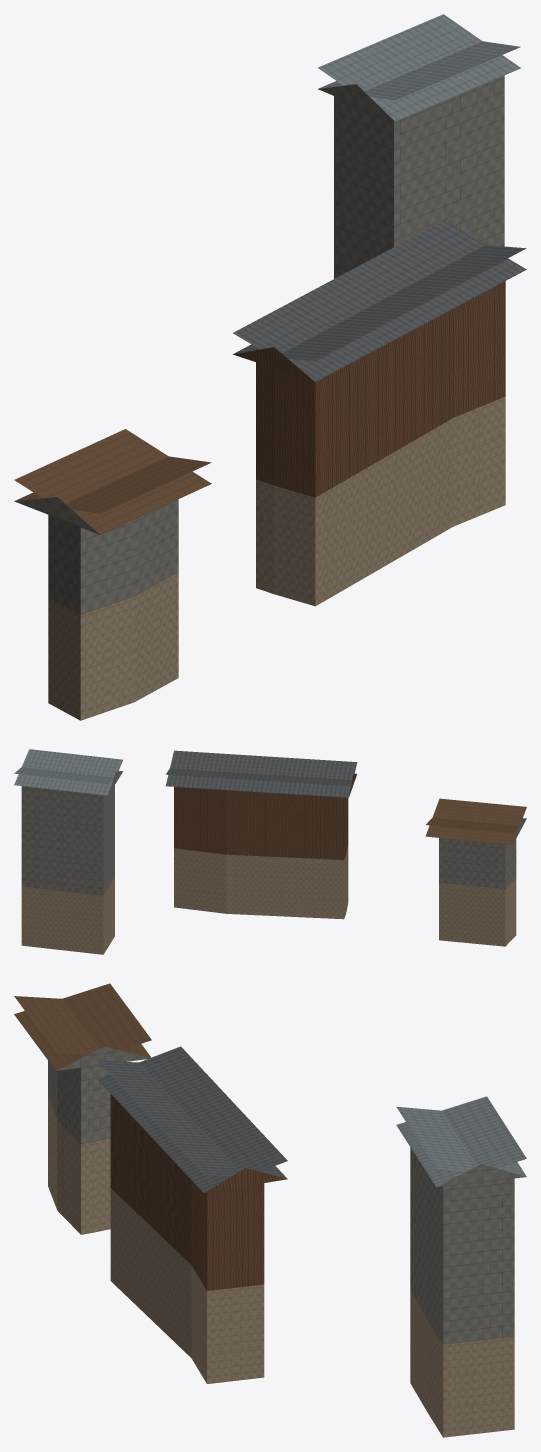
Rendered from bld_c0_-1_536.gltf.
3 renders of one model, top to bottom at view 1: azimuth 30°, elevation 25°; view 2: azimuth 150°, elevation 25°; view 3: azimuth 270°, elevation 25°, orthographic. The views are drawn at different scales.
Visible parts, largest first — view 1: bld_c0_-1_536; view 2: bld_c0_-1_536; view 3: bld_c0_-1_536.
Boxes of the visible parts, <box> form: bld_c0_-1_536: <box>14,14,526,720</box>; bld_c0_-1_536: <box>14,749,526,954</box>; bld_c0_-1_536: <box>14,983,526,1437</box>.
Size of the model in its own units: 34.27 by 16.2 by 25.47.
Materials: 8 (8 with a texture image).
